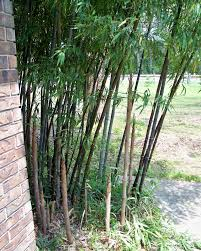bamboo: (16, 3, 198, 110), (25, 114, 159, 174), (32, 177, 142, 239)
